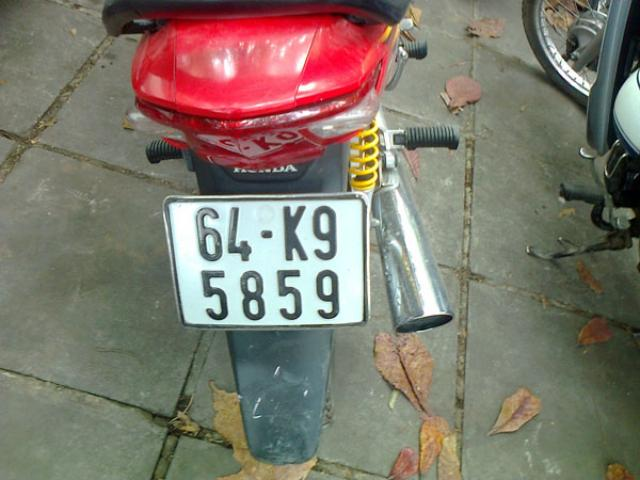plate: (173, 200, 363, 329)
